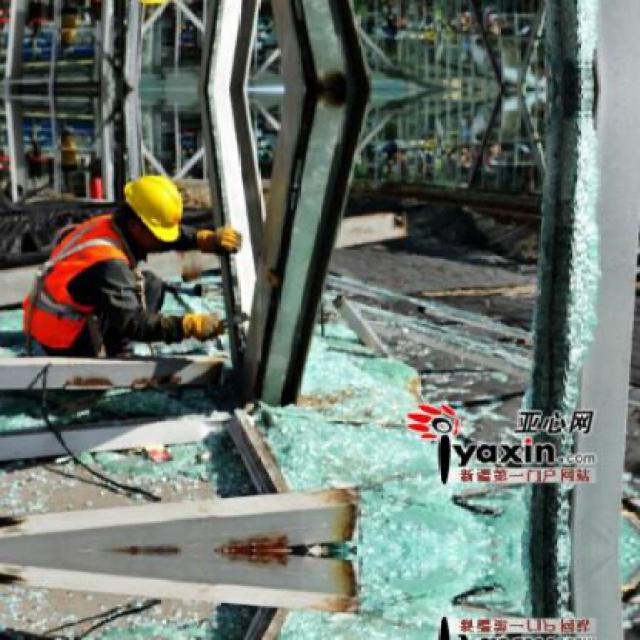Reflective-Jacket: (11, 211, 140, 361)
Safety-Helmet: (112, 165, 200, 250)
